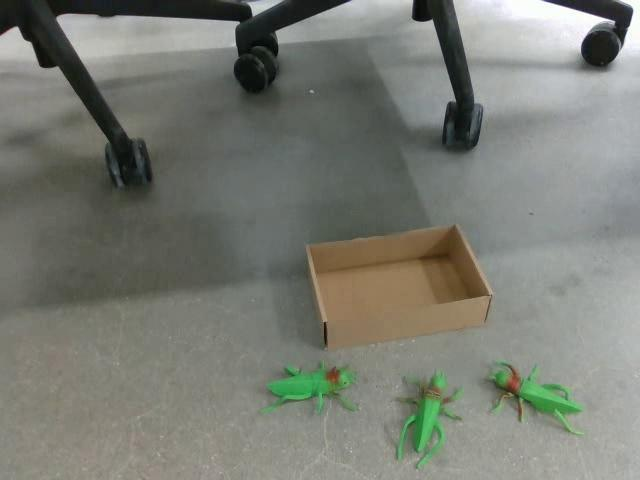box: (304, 222, 493, 351)
grasshopper: (485, 360, 584, 435), (393, 368, 463, 469), (258, 359, 359, 416)
